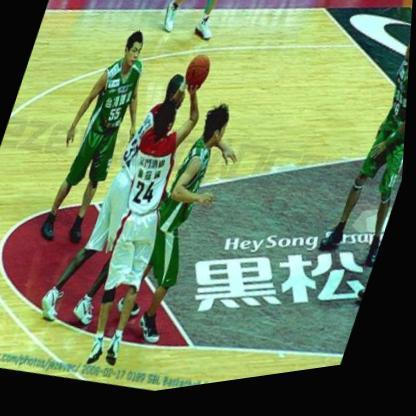basketball: (183, 58, 216, 99)
